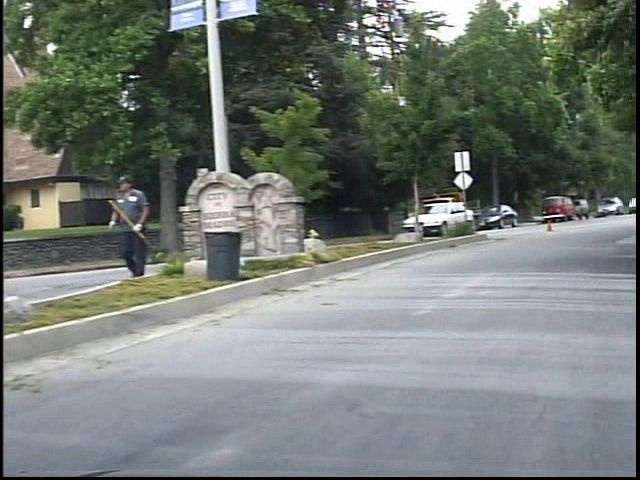person: (115, 169, 163, 282)
